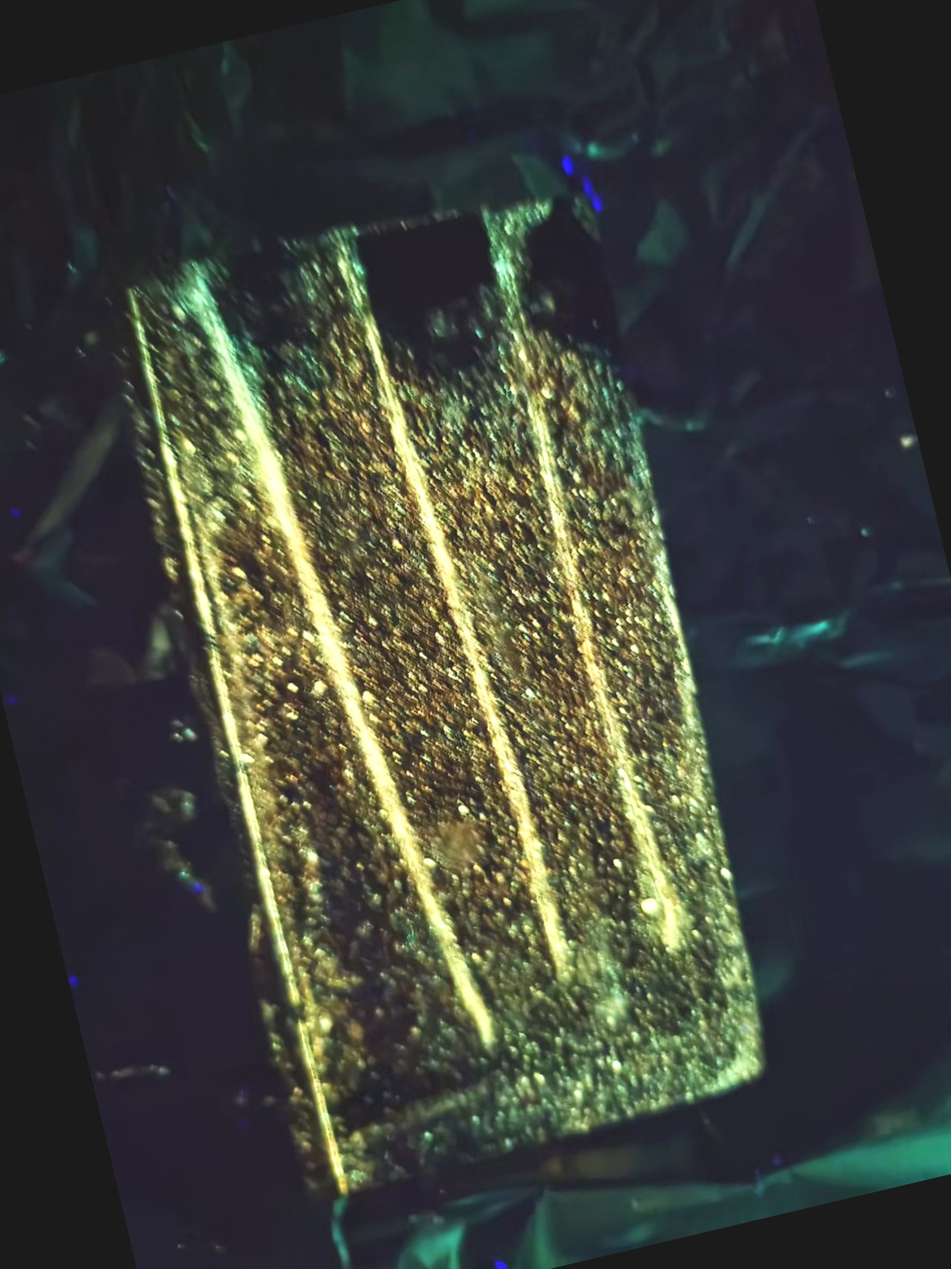Fissure: (168, 239, 512, 1077), (316, 205, 606, 1019), (466, 194, 703, 968)
